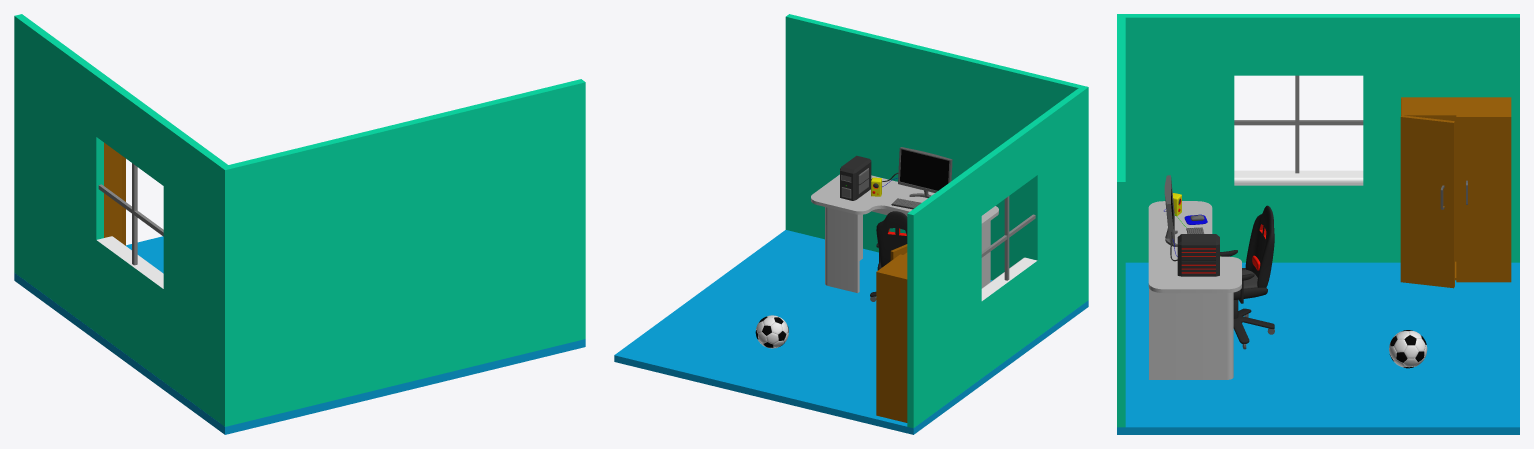
The model's file is interior.gltf.
3 views of the same model, side by side, from view 1: azimuth 30°, elevation 25°; view 2: azimuth 150°, elevation 25°; view 3: azimuth 270°, elevation 25° (orthographic). The views are drawn at different scales.
Visible parts, largest first — view 1: Cube.010, Cube.009, Cube.008, Cube.015, Cube.011; view 2: Cube.010, Cube.009, Cube.008, Cube.003, Cube.015, Cube.004, Cube.022, Cube.005, Icosphere, Cube.011; view 3: Cube.009, Cube.008, Cube.015, Cube.003, Cube.010, Cube.022, Cube.005, Icosphere, Cube.012, Cube.004, Cube.011.
Part boxes in pixels (x1=…): Cube.010: x1=220, y1=79, x2=585, y2=426; Cube.009: x1=14, y1=14, x2=227, y2=423; Cube.008: x1=14, y1=236, x2=585, y2=434; Cube.015: x1=104, y1=142, x2=125, y2=245; Cube.011: x1=132, y1=163, x2=137, y2=265; Cube.010: x1=785, y1=14, x2=1088, y2=302; Cube.009: x1=907, y1=88, x2=1084, y2=428; Cube.008: x1=614, y1=230, x2=1088, y2=434; Cube.003: x1=811, y1=174, x2=998, y2=293; Cube.015: x1=876, y1=244, x2=907, y2=422; Cube.004: x1=898, y1=147, x2=952, y2=197; Cube.022: x1=870, y1=211, x2=907, y2=301; Cube.005: x1=840, y1=155, x2=871, y2=200; Icosphere: x1=755, y1=315, x2=788, y2=348; Cube.011: x1=1004, y1=196, x2=1009, y2=280; Cube.009: x1=1125, y1=14, x2=1519, y2=262; Cube.008: x1=1117, y1=262, x2=1519, y2=434; Cube.015: x1=1400, y1=97, x2=1511, y2=288; Cube.003: x1=1148, y1=201, x2=1241, y2=379; Cube.010: x1=1117, y1=14, x2=1125, y2=427; Cube.022: x1=1220, y1=205, x2=1274, y2=349; Cube.005: x1=1177, y1=234, x2=1220, y2=276; Icosphere: x1=1389, y1=330, x2=1427, y2=368; Cube.012: x1=1234, y1=120, x2=1363, y2=125; Cube.004: x1=1164, y1=175, x2=1177, y2=246; Cube.011: x1=1295, y1=75, x2=1299, y2=173.
Bounding box in the file's own units: 18.76 × 13.16 × 19.
